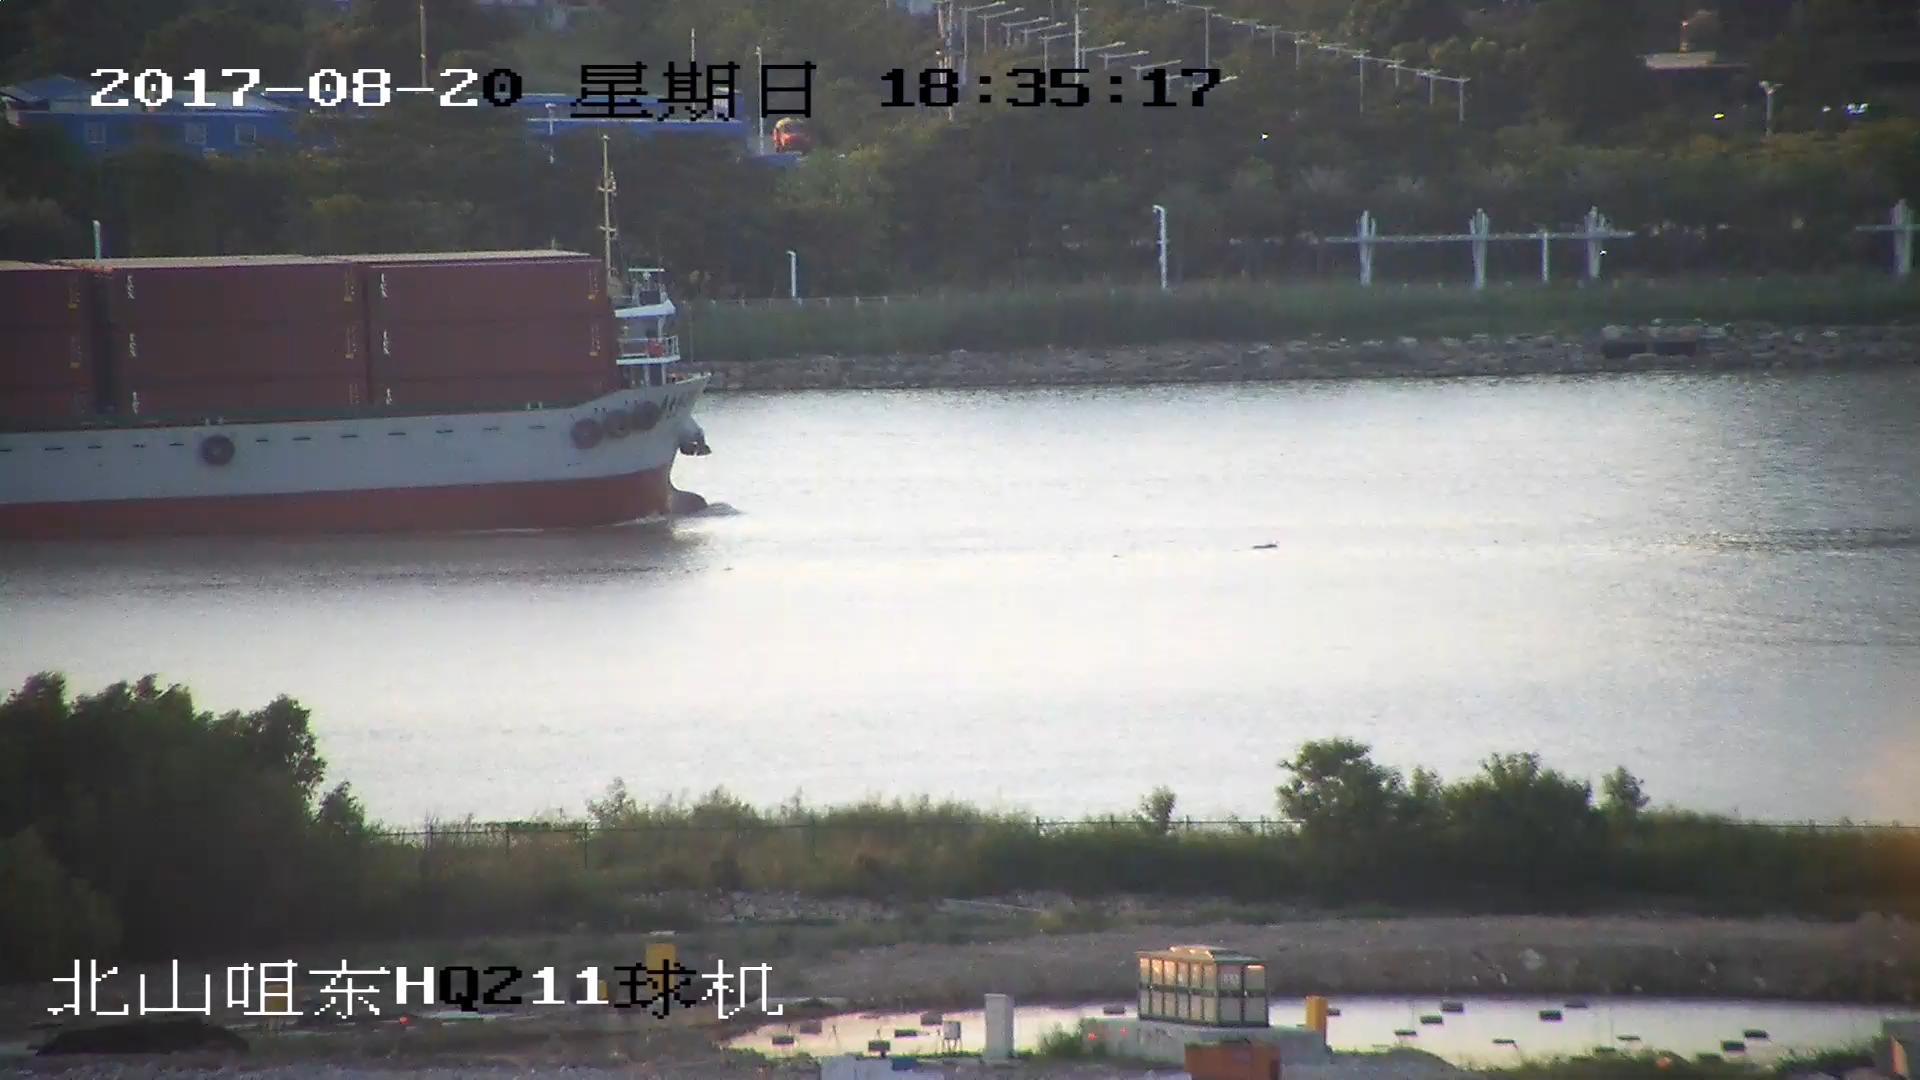container ship: (1, 136, 720, 531)
